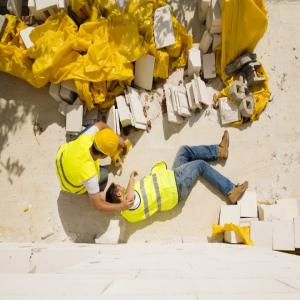none: (106, 181, 125, 207)
yellow: (93, 129, 117, 163)
